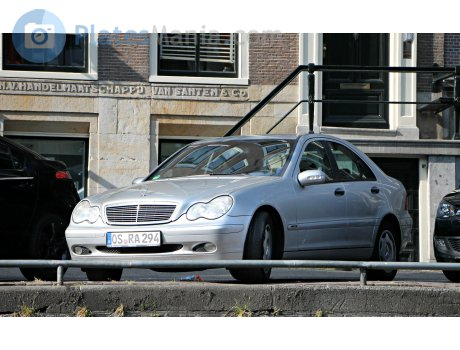License Plates: (109, 230, 165, 247)
